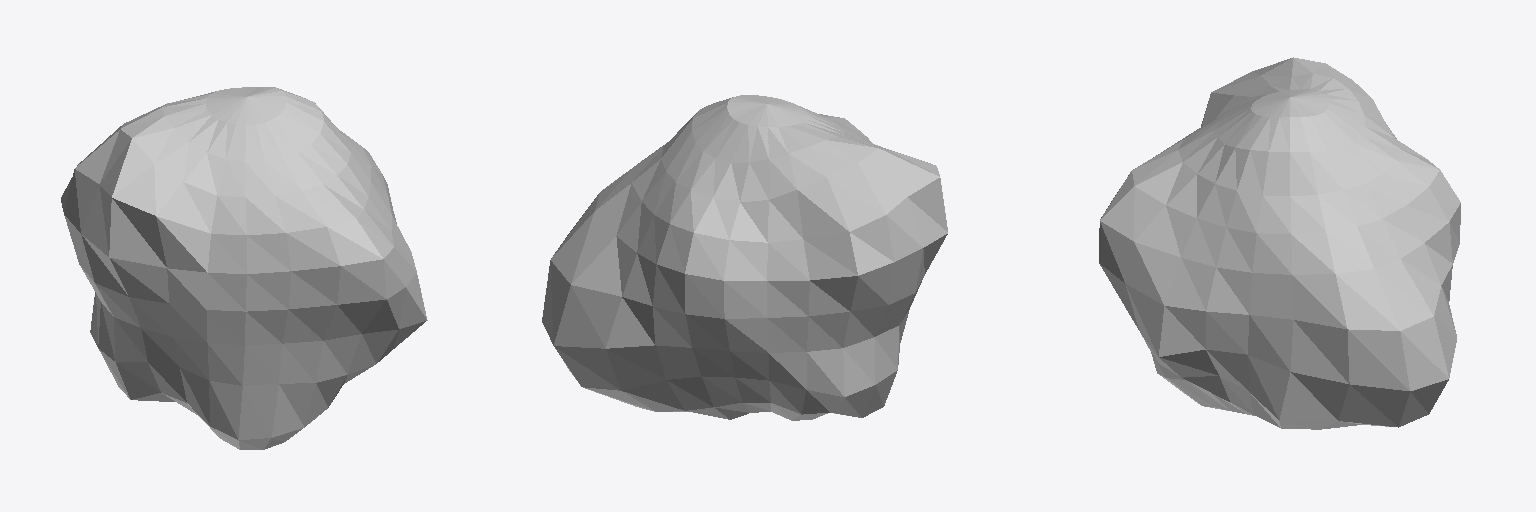
File: asteroid1_lod.obj
3 views of the same model, side by side, from view 1: azimuth 30°, elevation 25°; view 2: azimuth 150°, elevation 25°; view 3: azimuth 270°, elevation 25° (orthographic).
Parts seen in each view (by area): view 1: mesh; view 2: mesh; view 3: mesh.
Part boxes in pixels (x1,y1,x2,y2): mesh: (61,87,427,449); mesh: (542,95,947,420); mesh: (1099,57,1460,429).
Bounding box in the file's own units: 12.71 × 11.52 × 12.06.